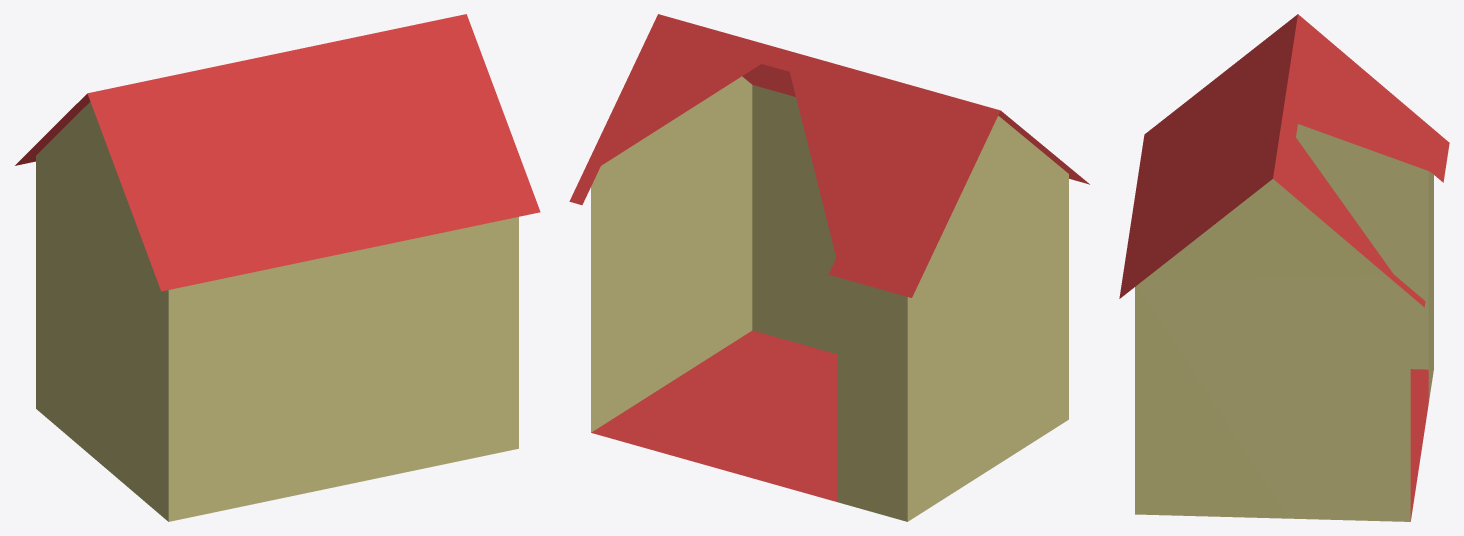
3 views of the same model, side by side, from view 1: azimuth 30°, elevation 25°; view 2: azimuth 150°, elevation 25°; view 3: azimuth 270°, elevation 25° (orthographic). The views are drawn at different scales.
Size of the model in its own units: 13.83 by 11.16 by 12.89.
